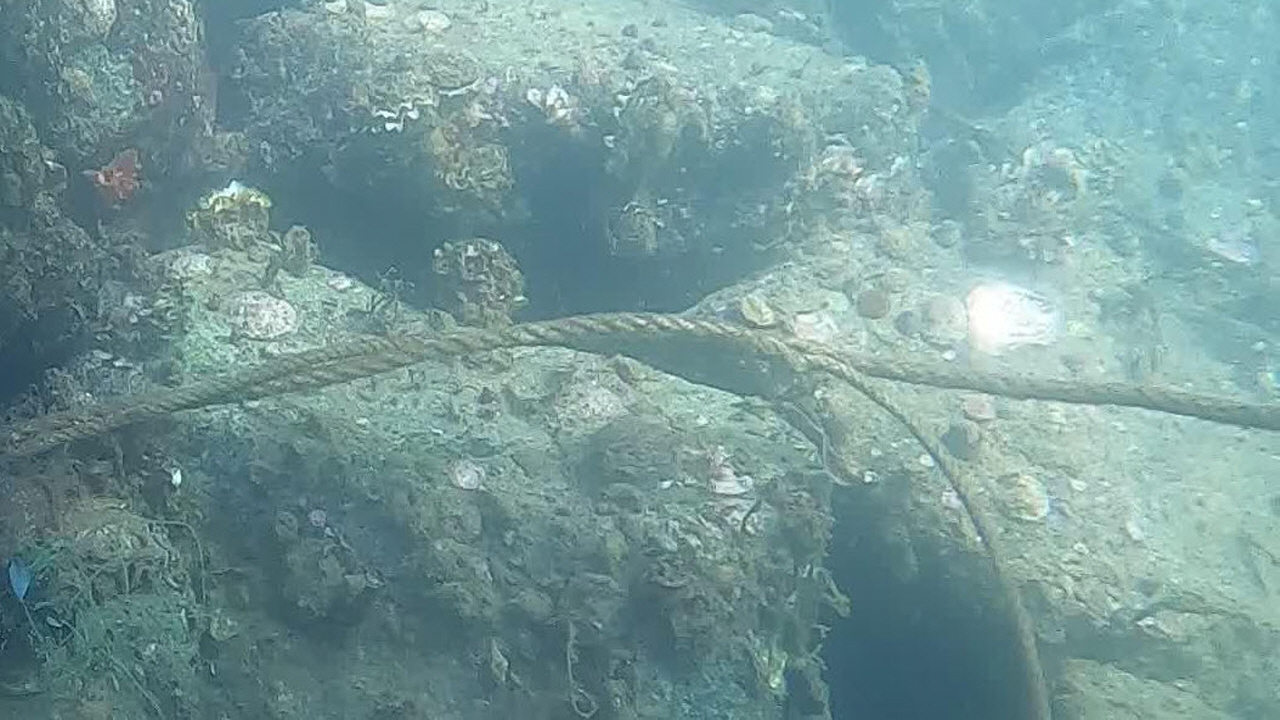bundle of ropes: (0, 309, 1279, 720)
